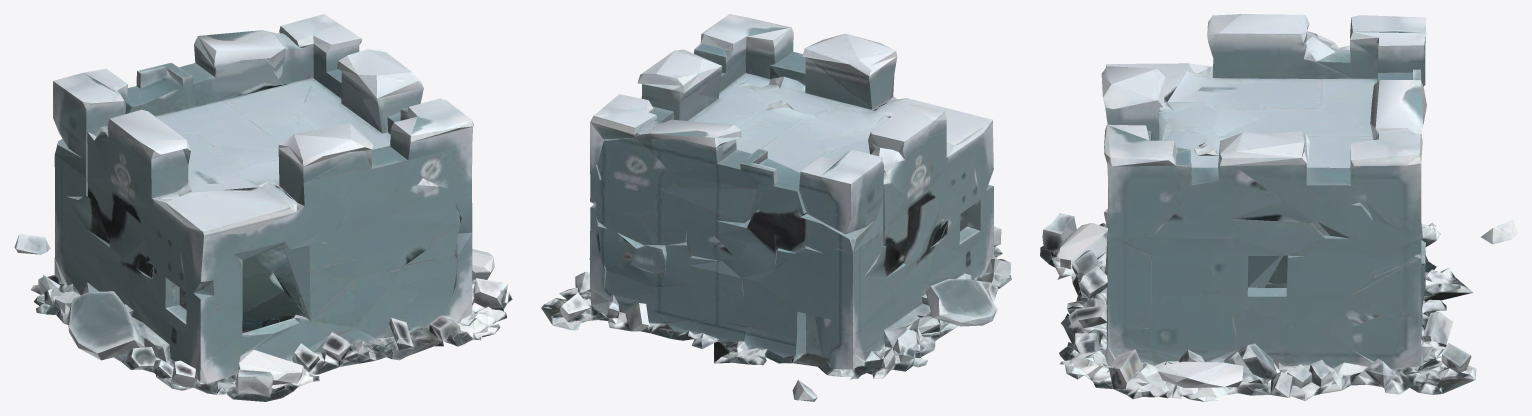
File: wall_snow.glb
3 views of the same model, side by side, from view 1: azimuth 30°, elevation 25°; view 2: azimuth 150°, elevation 25°; view 3: azimuth 270°, elevation 25° (orthographic). The views are drawn at different scales.
Bounding box in the file's own units: 1.88 × 0.9613 × 1.84.
1 material, 1 textured.
